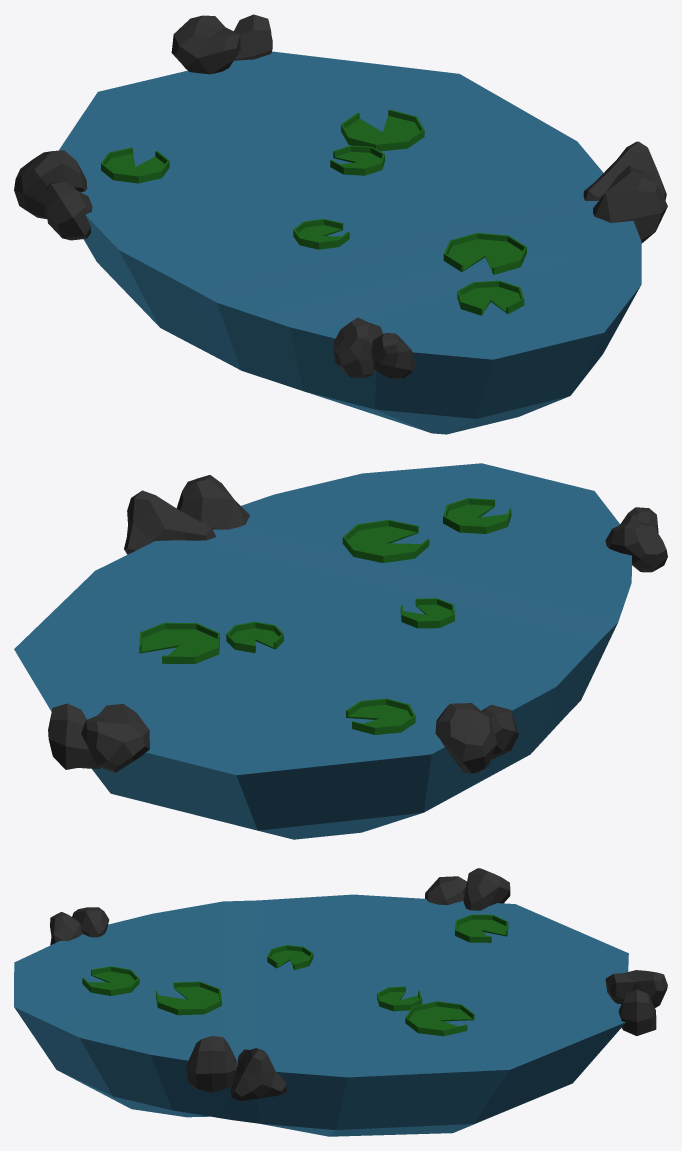
File: Pond.fbx
3 renders of one model, top to bottom at view 1: azimuth 30°, elevation 25°; view 2: azimuth 150°, elevation 25°; view 3: azimuth 270°, elevation 25°, orthographic. The views are drawn at different scales.
Visible parts, largest first — view 1: Pond; view 2: Pond; view 3: Pond.
Part boxes in pixels (x1,y1,x2,y2): Pond: [14, 14, 667, 434]; Pond: [14, 463, 667, 839]; Pond: [14, 868, 667, 1136].
Bounding box in the file's own units: 3.1 × 0.9852 × 4.27.
